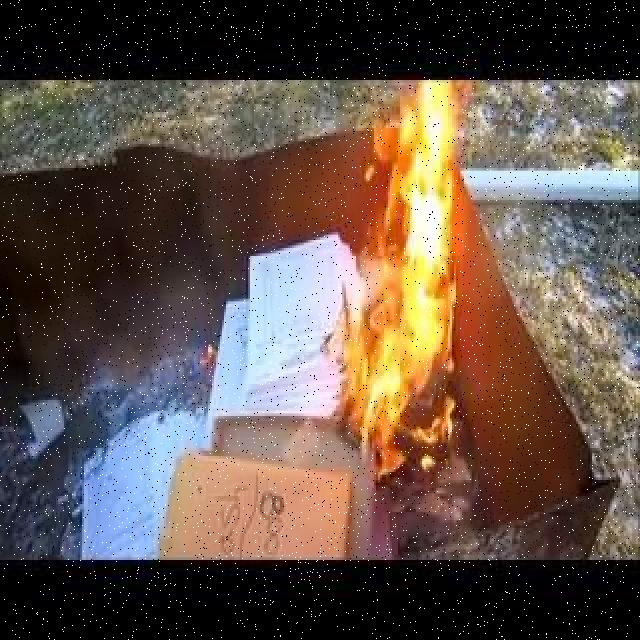fire: (351, 83, 450, 452)
